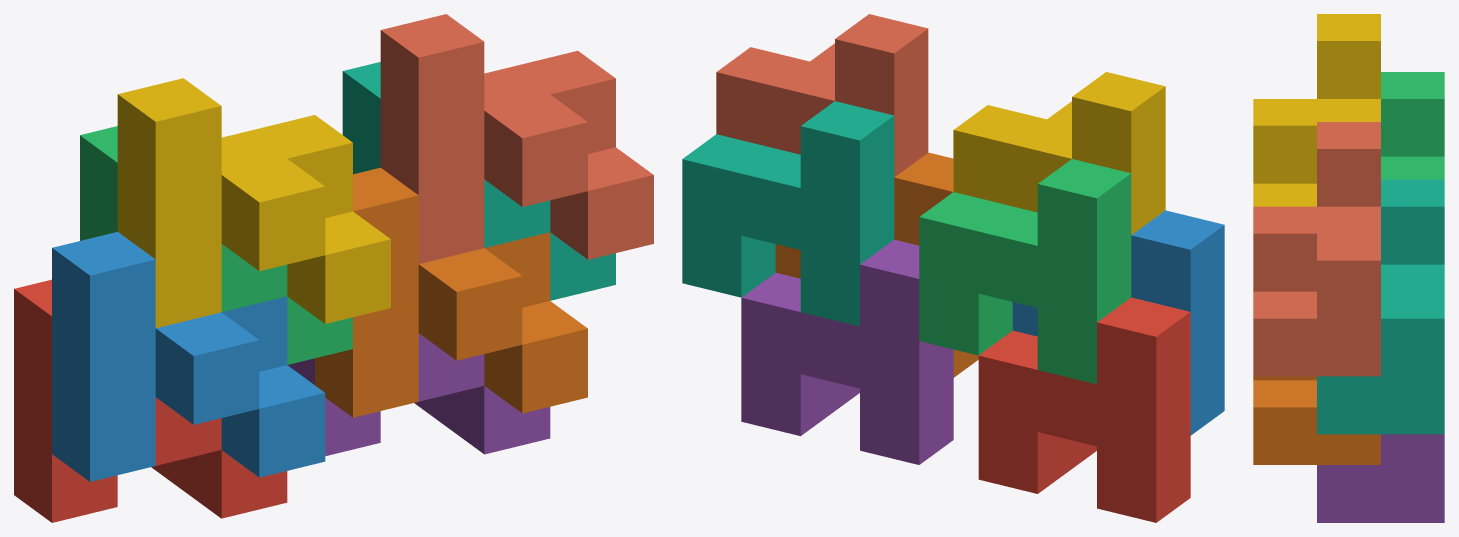
The model's file is tiling.obj.
3 views of the same model, side by side, from view 1: azimuth 30°, elevation 25°; view 2: azimuth 150°, elevation 25°; view 3: azimuth 270°, elevation 25° (orthographic). The views are drawn at different scales.
Visible parts, largest first — view 1: copy_1_domain_4, copy_1_domain_8, copy_1_domain_2, copy_1_domain_6, copy_1_domain_1, copy_1_domain_5, copy_1_domain_3, copy_1_domain_7; view 2: copy_1_domain_1, copy_1_domain_3, copy_1_domain_7, copy_1_domain_5, copy_1_domain_8, copy_1_domain_4, copy_1_domain_2, copy_1_domain_6; view 3: copy_1_domain_8, copy_1_domain_7, copy_1_domain_4, copy_1_domain_5, copy_1_domain_6, copy_1_domain_3.
Boxes of the visible parts, x1,y1,x2,y2 form: copy_1_domain_4: (117, 78, 390, 328); copy_1_domain_8: (380, 14, 653, 263); copy_1_domain_2: (52, 232, 325, 481); copy_1_domain_6: (315, 167, 587, 417); copy_1_domain_1: (14, 279, 287, 522); copy_1_domain_5: (287, 333, 550, 456); copy_1_domain_3: (80, 126, 352, 364); copy_1_domain_7: (342, 62, 615, 300); copy_1_domain_1: (978, 297, 1190, 522); copy_1_domain_3: (919, 159, 1131, 384); copy_1_domain_7: (682, 101, 894, 326); copy_1_domain_5: (741, 239, 953, 464); copy_1_domain_8: (716, 14, 928, 176); copy_1_domain_4: (953, 72, 1165, 234); copy_1_domain_2: (1012, 210, 1224, 435); copy_1_domain_6: (775, 152, 978, 377); copy_1_domain_8: (1253, 122, 1380, 376); copy_1_domain_7: (1317, 179, 1444, 434); copy_1_domain_4: (1253, 14, 1380, 206); copy_1_domain_5: (1317, 434, 1444, 522); copy_1_domain_6: (1253, 376, 1380, 464); copy_1_domain_3: (1381, 72, 1444, 179).
Size of the model in its own units: 8 by 6 by 3.
